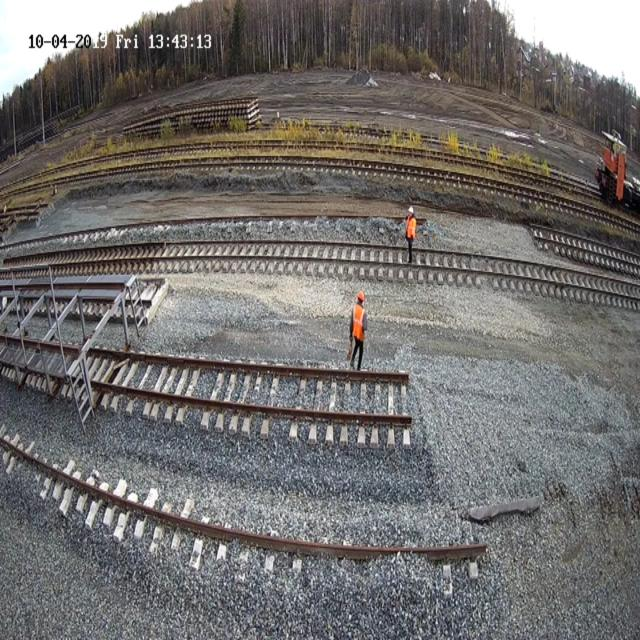Helmet: (357, 291, 365, 302), (408, 206, 413, 214)
Person: (348, 290, 367, 370), (405, 205, 416, 262)
